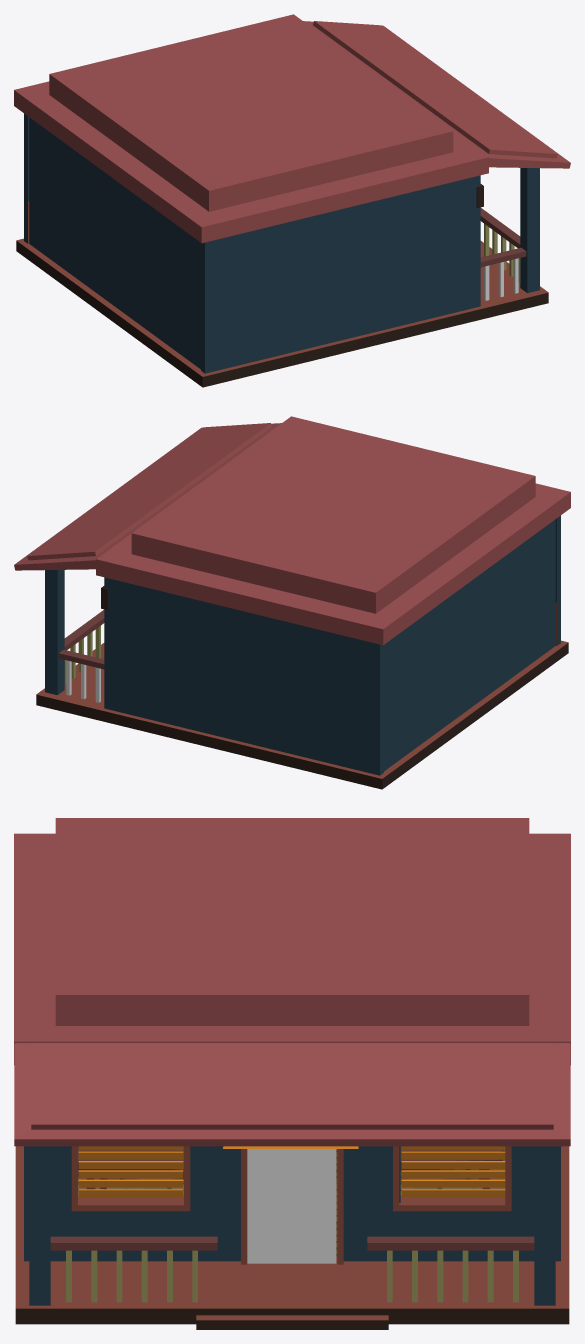
File: Bar 1.fbx
3 views of the same model, one above another, from view 1: azimuth 30°, elevation 25°; view 2: azimuth 150°, elevation 25°; view 3: azimuth 270°, elevation 25° (orthographic). The views are drawn at different scales.
Visible parts, largest first — view 1: потолок, Cube.005, Cube.001, Cube.022, Cube.009, Cube.010, Cube.002, Cube.014, Cube.012, Cube.013, Cube.011; view 2: потолок, Cube.002, Cube.001, Cube.022, Cube.009, Cube.010, Cube.005, Cube.014, Cube.012, Cube.013, Cube.011; view 3: потолок, Cube.022, Cube.009, Cube.007, Cube, Cube.021, Cube.010, Cube.013, Cube.016, Cube.014, Cube.015, Cube.003 (+1 smaller).
Boxes of the visible parts, left/top/right/bottom form: потолок: left=14, top=14, right=488, bottom=243; Cube.005: left=201, top=176, right=478, bottom=373; Cube.001: left=29, top=117, right=200, bottom=369; Cube.022: left=303, top=21, right=570, bottom=168; Cube.009: left=16, top=238, right=548, bottom=387; Cube.010: left=520, top=168, right=539, bottom=293; Cube.002: left=24, top=113, right=29, bottom=243; Cube.014: left=484, top=224, right=520, bottom=282; Cube.012: left=484, top=258, right=518, bottom=300; Cube.013: left=480, top=208, right=520, bottom=248; Cube.011: left=480, top=247, right=526, bottom=267; потолок: left=96, top=416, right=570, bottom=645; Cube.002: left=106, top=578, right=383, bottom=775; Cube.001: left=384, top=519, right=555, bottom=771; Cube.022: left=14, top=423, right=281, bottom=570; Cube.009: left=36, top=640, right=568, bottom=789; Cube.010: left=45, top=570, right=64, bottom=695; Cube.005: left=555, top=515, right=560, bottom=645; Cube.014: left=64, top=626, right=100, bottom=684; Cube.012: left=66, top=660, right=100, bottom=702; Cube.013: left=64, top=610, right=104, bottom=650; Cube.011: left=58, top=649, right=104, bottom=669; потолок: left=14, top=818, right=570, bottom=1064; Cube.022: left=14, top=1043, right=570, bottom=1146; Cube.009: left=15, top=1146, right=569, bottom=1324; Cube.007: left=24, top=1146, right=560, bottom=1261; Cube: left=247, top=1149, right=336, bottom=1263; Cube.021: left=78, top=1146, right=505, bottom=1197; Cube.010: left=29, top=1146, right=555, bottom=1305; Cube.013: left=50, top=1236, right=534, bottom=1250; Cube.016: left=71, top=1146, right=511, bottom=1211; Cube.014: left=66, top=1250, right=518, bottom=1302; Cube.015: left=196, top=1315, right=388, bottom=1329; Cube.003: left=241, top=1149, right=343, bottom=1264.
Bounding box in the file's own units: 3708 × 1749 × 3264.
